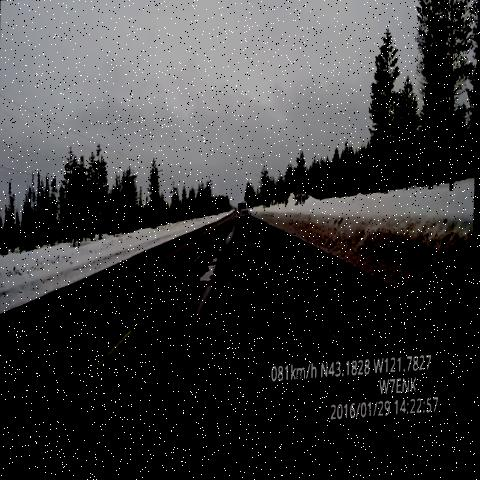pothole: (194, 256, 226, 300), (214, 243, 230, 262)
